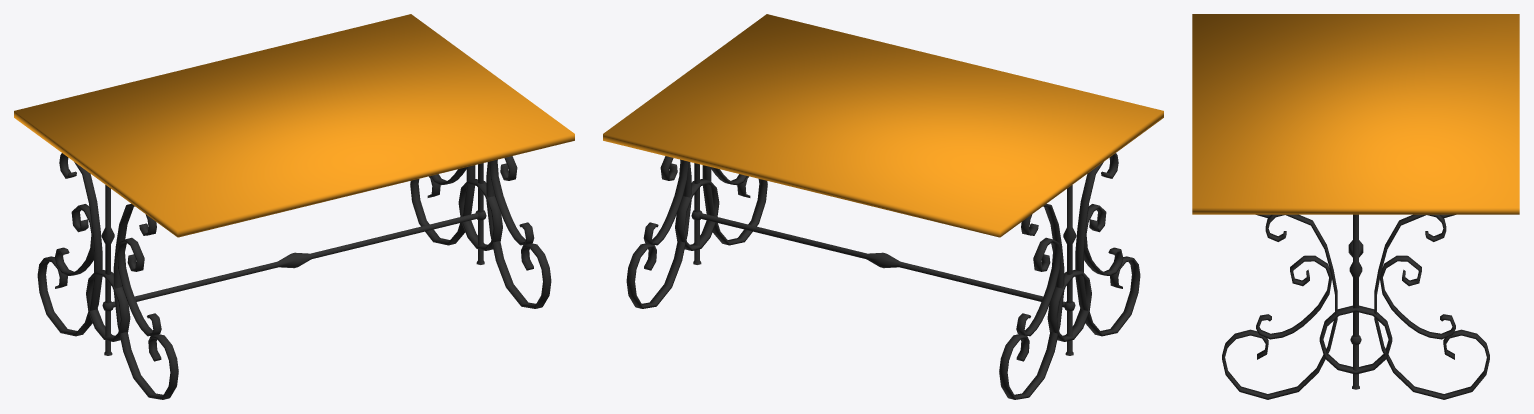
Rendered from Table_1_LP.fbx.
The picture shows the model from 3 angles, left to right: view 1: azimuth 30°, elevation 25°; view 2: azimuth 150°, elevation 25°; view 3: azimuth 270°, elevation 25°; orthographic projection.
Parts seen in each view (by area): view 1: Cube.006, BézierCurve.004, BézierCurve.005, Cylinder.005, BézierCircle.003, Cylinder.004; view 2: Cube.006, BézierCurve.004, BézierCurve.005, Cylinder.005, BézierCircle.003, Cylinder.004; view 3: Cube.006, BézierCurve.004, BézierCurve.005, BézierCircle.003, Cylinder.004.
Part boxes in pixels (box(x1,y1,x2,y2)): Cube.006: box(14, 14, 574, 237); BézierCurve.004: box(37, 153, 551, 399); BézierCurve.005: box(54, 156, 534, 336); Cylinder.005: box(112, 213, 478, 307); BézierCircle.003: box(86, 179, 502, 341); Cylinder.004: box(101, 163, 484, 355); Cube.006: box(603, 14, 1163, 237); BézierCurve.004: box(626, 153, 1140, 399); BézierCurve.005: box(643, 156, 1123, 336); Cylinder.005: box(699, 213, 1065, 307); BézierCircle.003: box(675, 179, 1091, 341); Cylinder.004: box(693, 163, 1076, 355); Cube.006: box(1192, 14, 1519, 214); BézierCurve.004: box(1222, 214, 1489, 399); BézierCurve.005: box(1256, 255, 1455, 339); BézierCircle.003: box(1319, 305, 1392, 374); Cylinder.004: box(1349, 214, 1362, 389).
Size of the model in its own units: 140 by 66.26 by 100.
